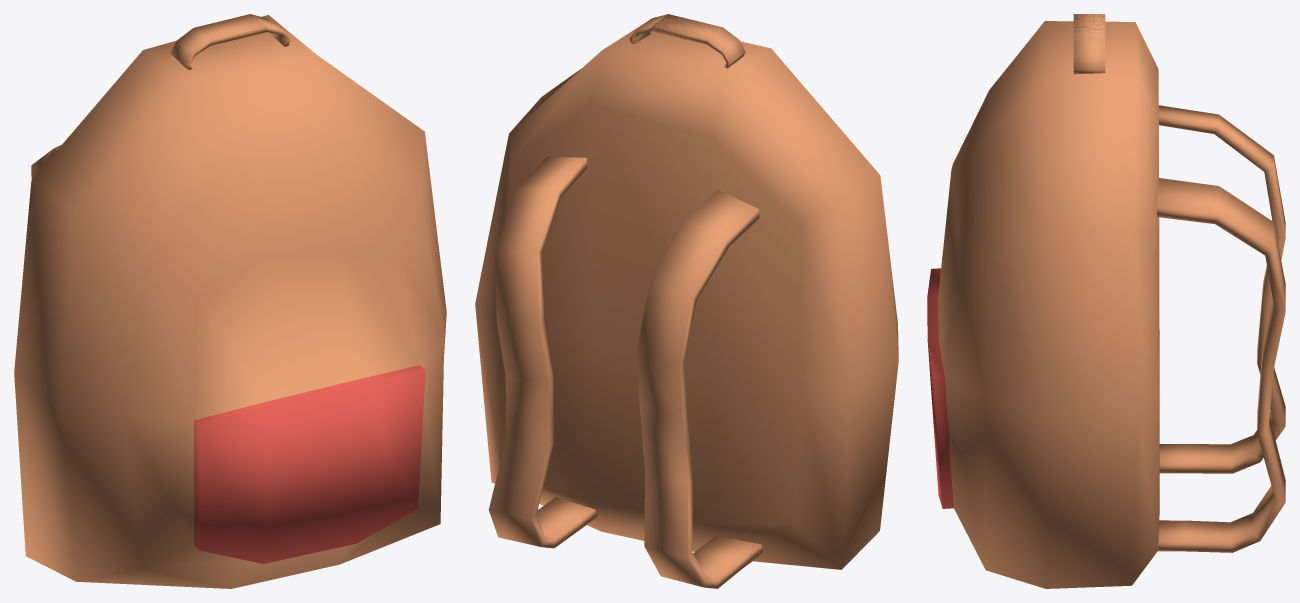
File: Mochila.fbx
3 views of the same model, side by side, from view 1: azimuth 30°, elevation 25°; view 2: azimuth 150°, elevation 25°; view 3: azimuth 270°, elevation 25° (orthographic). The views are drawn at different scales.
Parts seen in each view (by area): view 1: Plano.002; view 2: Plano.002; view 3: Plano.002.
Part boxes in pixels (x1=…): Plano.002: x1=14, y1=14, x2=446, y2=588; Plano.002: x1=475, y1=14, x2=898, y2=588; Plano.002: x1=927, y1=14, x2=1285, y2=588.
Bounding box in the file's own units: 77.8 × 99.3 × 65.33.
